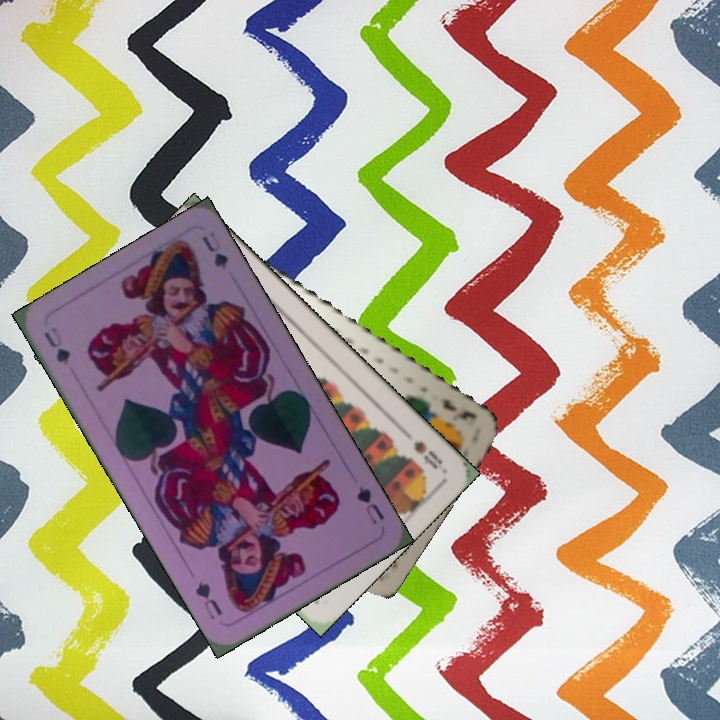EK: (437, 393, 480, 423)
GU: (352, 482, 387, 527), (39, 323, 73, 367)
S8: (409, 436, 445, 472)
